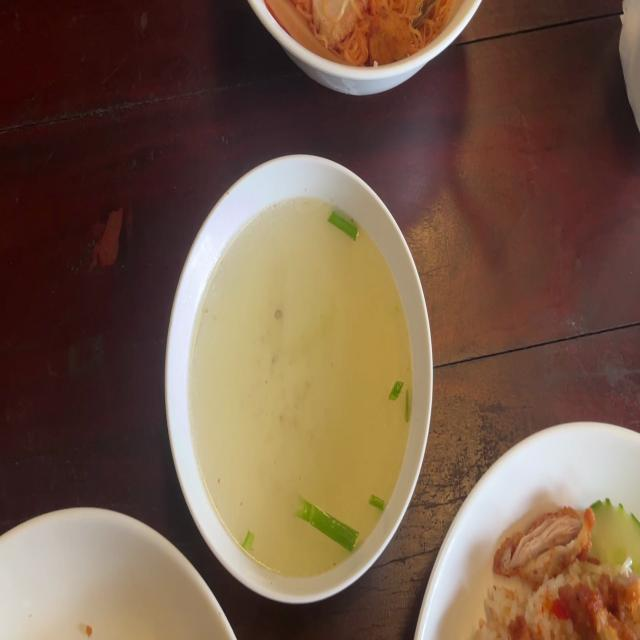chicken_rice: (473, 500, 640, 640)
crunchy_squid: (266, 0, 344, 69)
cucumber: (571, 497, 640, 580)
fried_chicken: (489, 508, 601, 589), (556, 575, 640, 640)
fried_fish_balls: (310, 0, 366, 45)
noodle: (256, 0, 467, 80)
